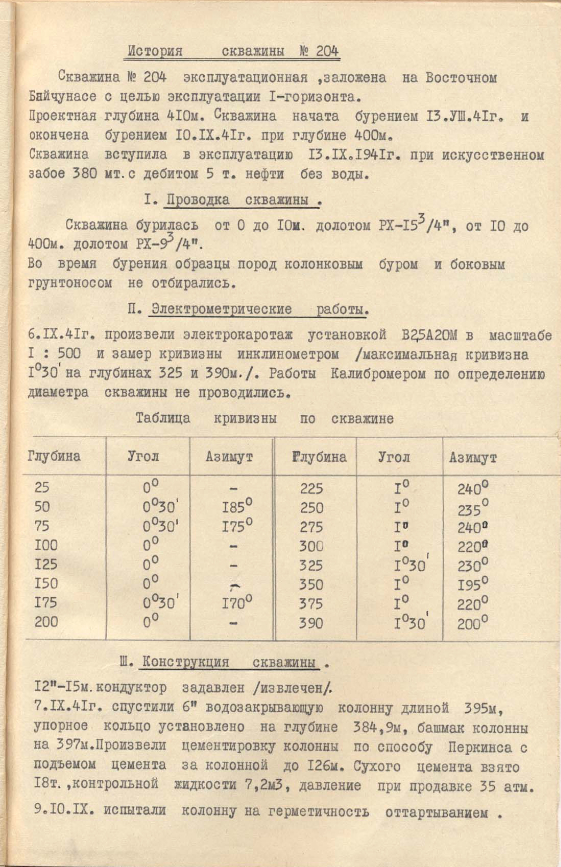Bordered: (16, 433, 561, 644)
